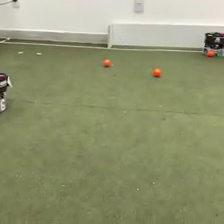ball: (102, 56, 112, 67), (152, 66, 162, 77), (206, 49, 215, 57)
goal: (106, 19, 224, 51)
robot: (202, 29, 224, 59), (1, 70, 14, 112)
